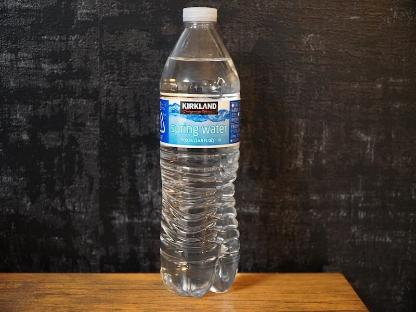Plastic Bottle: (158, 5, 242, 296)
